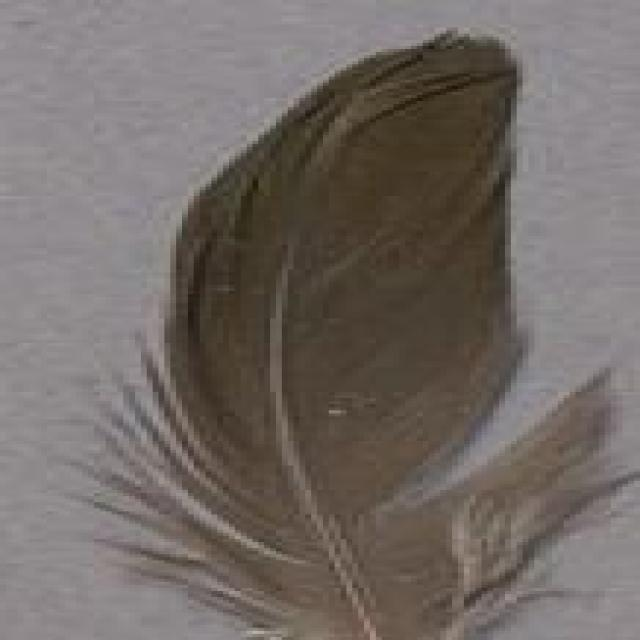feather: (79, 27, 639, 640)
